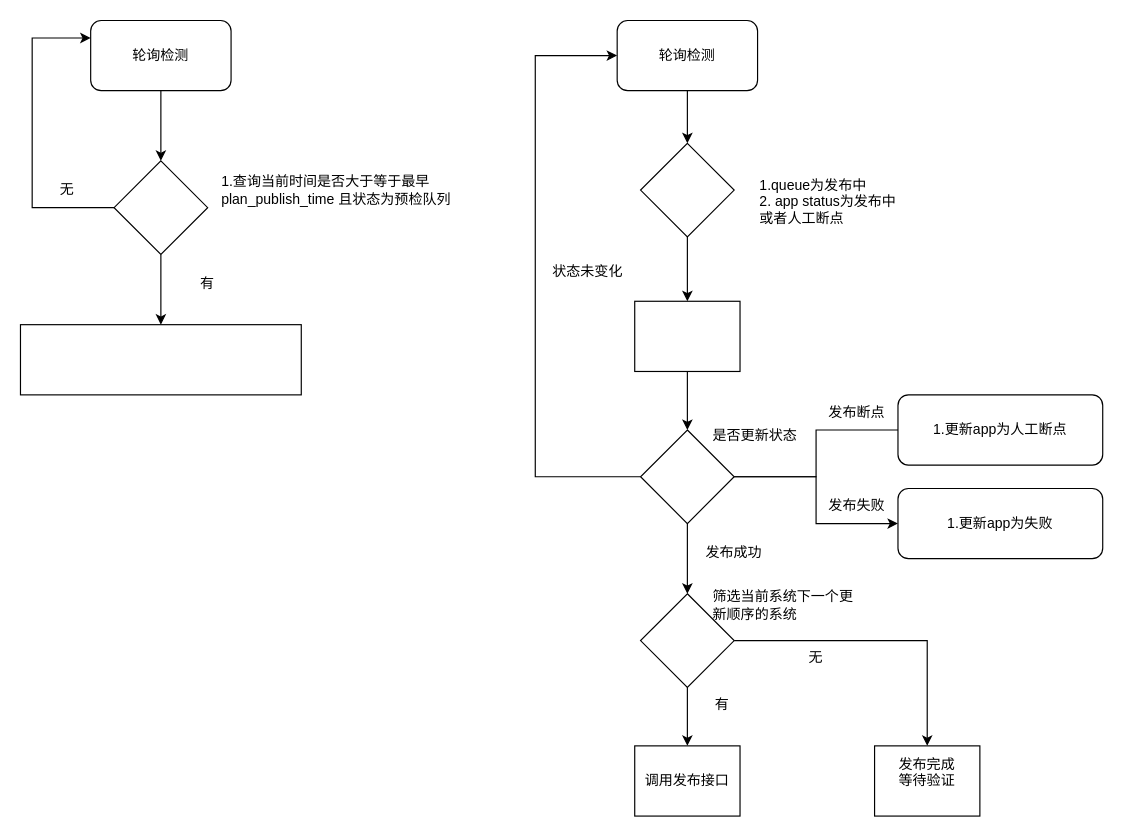
This 1123x837 diagram has some shape labels left out. The centre of each missing label's shape, as x and y in pixels:
"1.选择相同publish_order 值加载记录 2.更新queue, 更新app状态 3.调用发布接口" goes at [160,359].
"查询发布状态" goes at [687,335].
